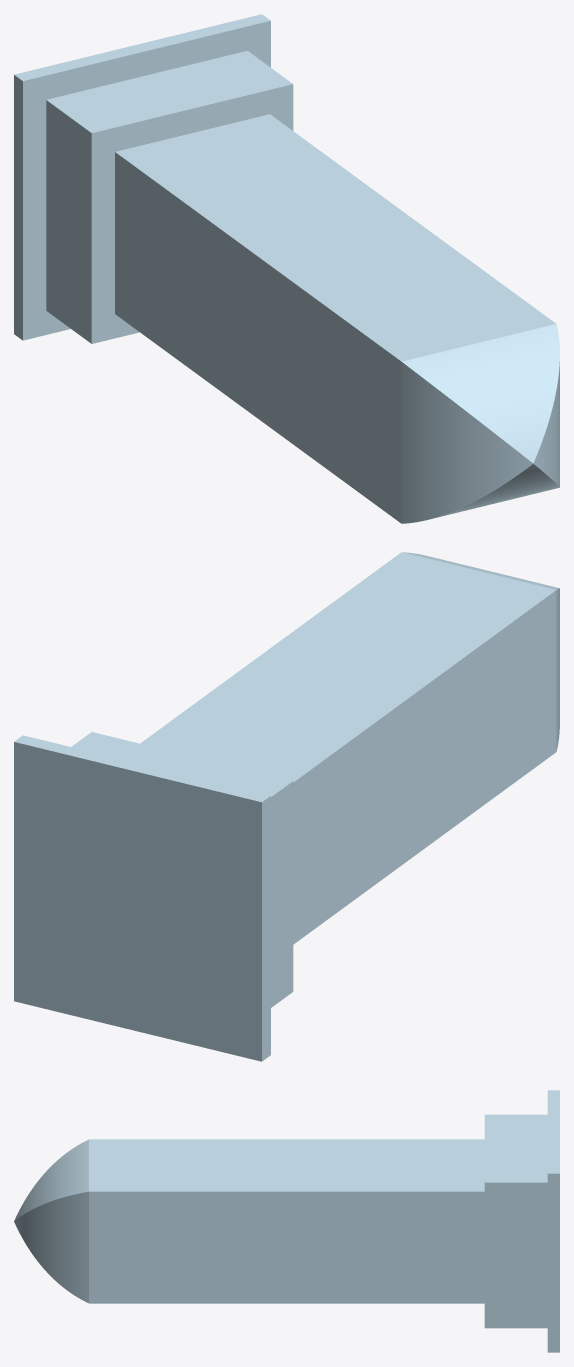
3 views of the same model, one above another, from view 1: azimuth 30°, elevation 25°; view 2: azimuth 150°, elevation 25°; view 3: azimuth 270°, elevation 25° (orthographic). The views are drawn at different scales.
Visible parts, largest first — view 1: PA-61-F_LOD0; view 2: PA-61-F_LOD0; view 3: PA-61-F_LOD0.
Part boxes in pixels (left/top/right/bottom): PA-61-F_LOD0: left=14, top=14, right=559, bottom=523; PA-61-F_LOD0: left=14, top=552, right=559, bottom=1061; PA-61-F_LOD0: left=14, top=1090, right=559, bottom=1352.
Size of what is drawn, in the model's own units: 40.64 by 40.64 by 112.
